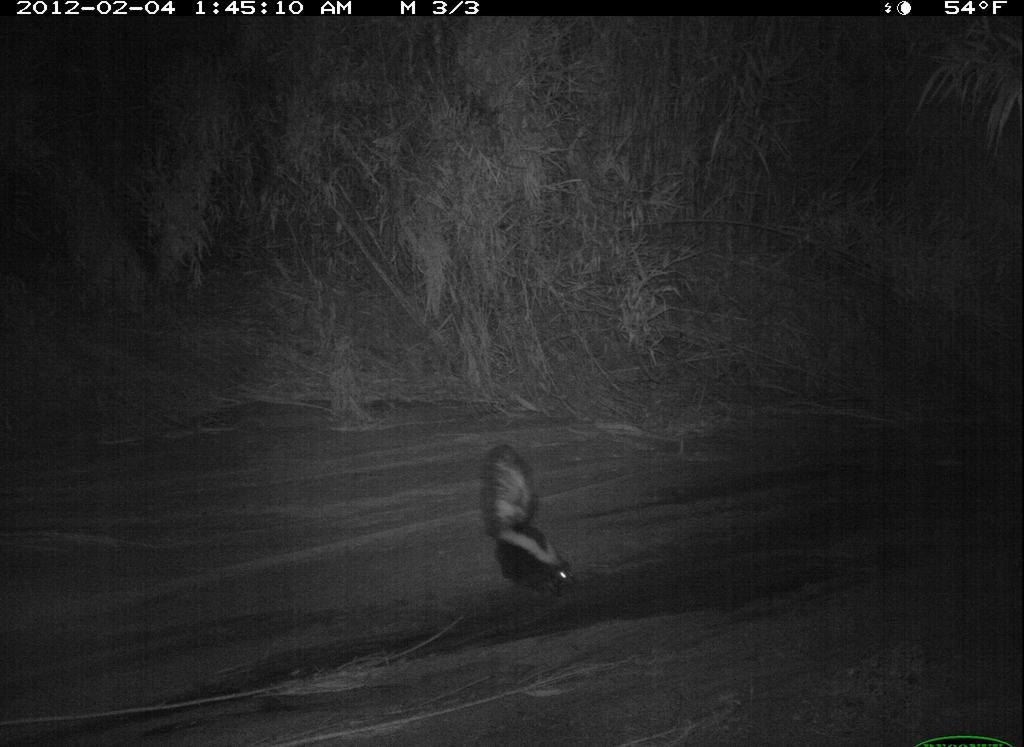skunk: (473, 437, 582, 609)
